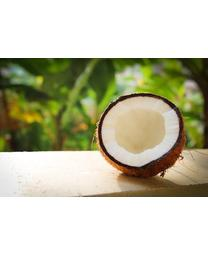coconut: (96, 92, 187, 177)
